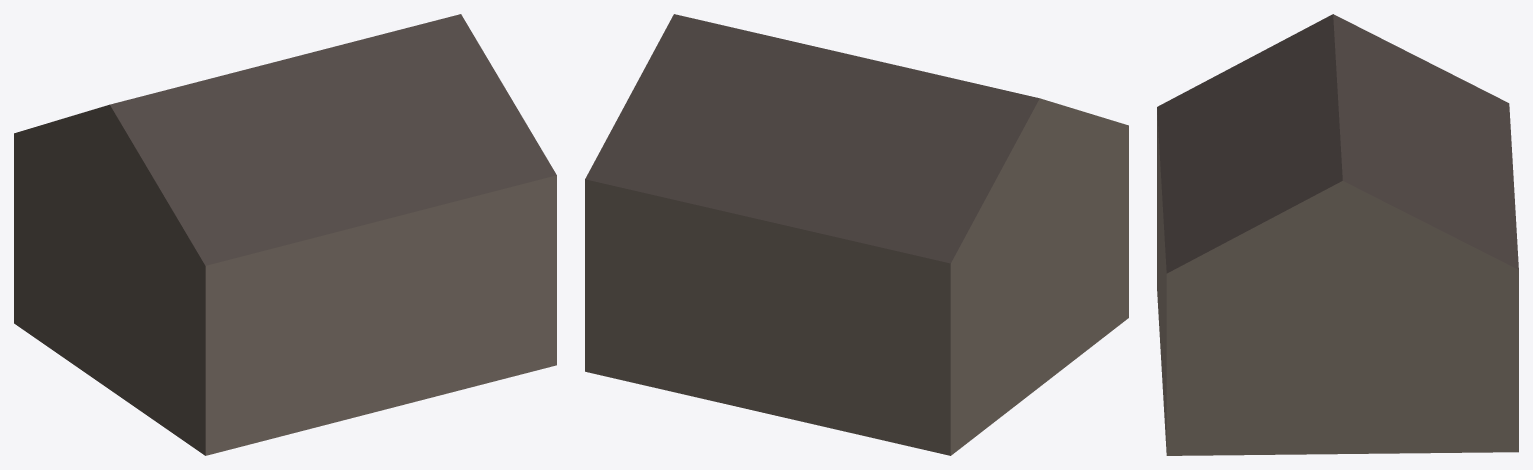
3 views of the same model, side by side, from view 1: azimuth 30°, elevation 25°; view 2: azimuth 150°, elevation 25°; view 3: azimuth 270°, elevation 25° (orthographic). The views are drawn at different scales.
Visible parts, largest first — view 1: HP-w408450660; view 2: HP-w408450660; view 3: HP-w408450660.
Boxes of the visible parts, left/top/right/bottom form: HP-w408450660: left=14, top=14, right=556, bottom=455; HP-w408450660: left=585, top=14, right=1128, bottom=455; HP-w408450660: left=1157, top=14, right=1518, bottom=455.
Bounding box in the file's own units: 12.03 × 9 × 10.8.
